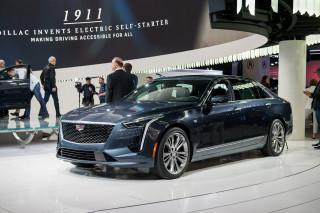cadillac: (74, 123, 86, 135)
